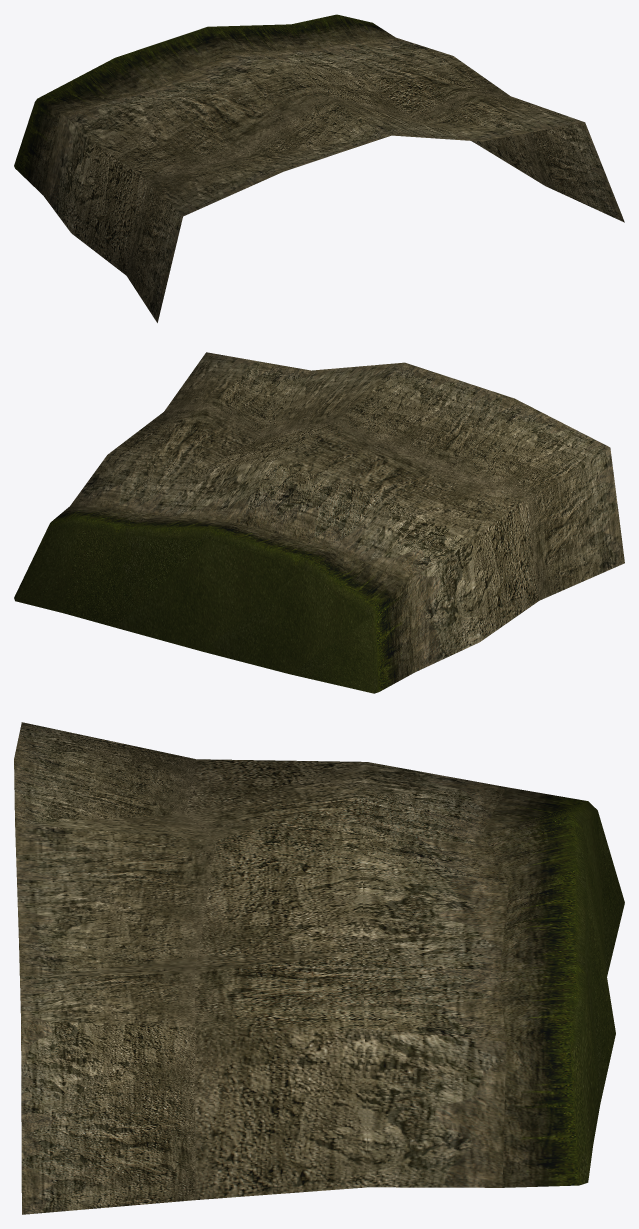
The model's file is MEP_Edge_01_e.fbx.
The picture shows the model from 3 angles, top to bottom: view 1: azimuth 30°, elevation 25°; view 2: azimuth 150°, elevation 25°; view 3: azimuth 270°, elevation 25°; orthographic projection. The views are drawn at different scales.
Visible parts, largest first — view 1: MEP_Edge_01_e; view 2: MEP_Edge_01_e; view 3: MEP_Edge_01_e.
Boxes of the visible parts, left/top/right/bottom form: MEP_Edge_01_e: left=14, top=14, right=624, bottom=322; MEP_Edge_01_e: left=14, top=352, right=624, bottom=693; MEP_Edge_01_e: left=14, top=722, right=624, bottom=1214.
Size of the model in its own units: 40.37 by 12.29 by 30.95.
Materials: 1 (1 with a texture image).
